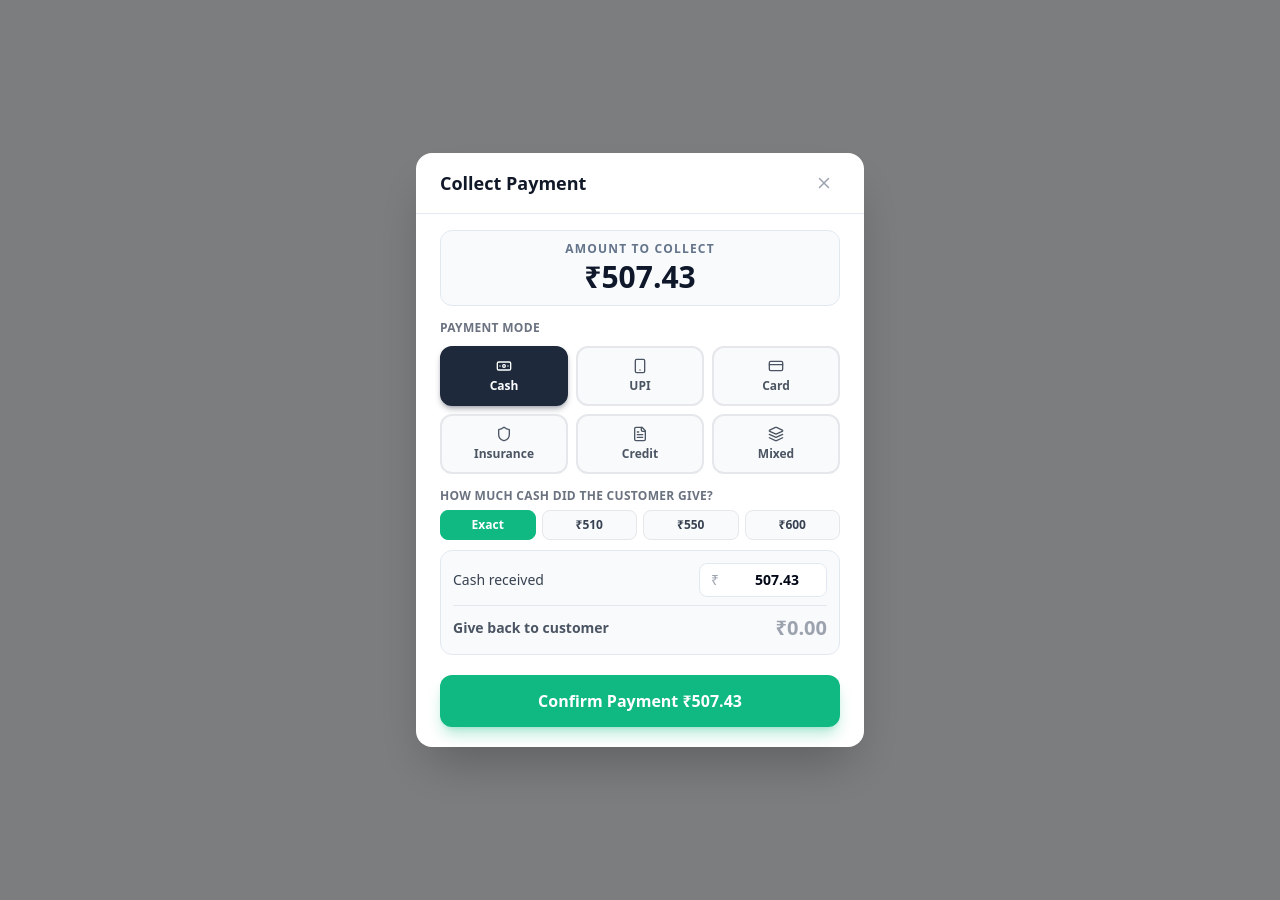
Test: PaymentModal cash panel › warns when the cash entered does not cover the bill
Replace the text in the number field with "400". click: (763, 580)
box: [699, 563, 827, 597]
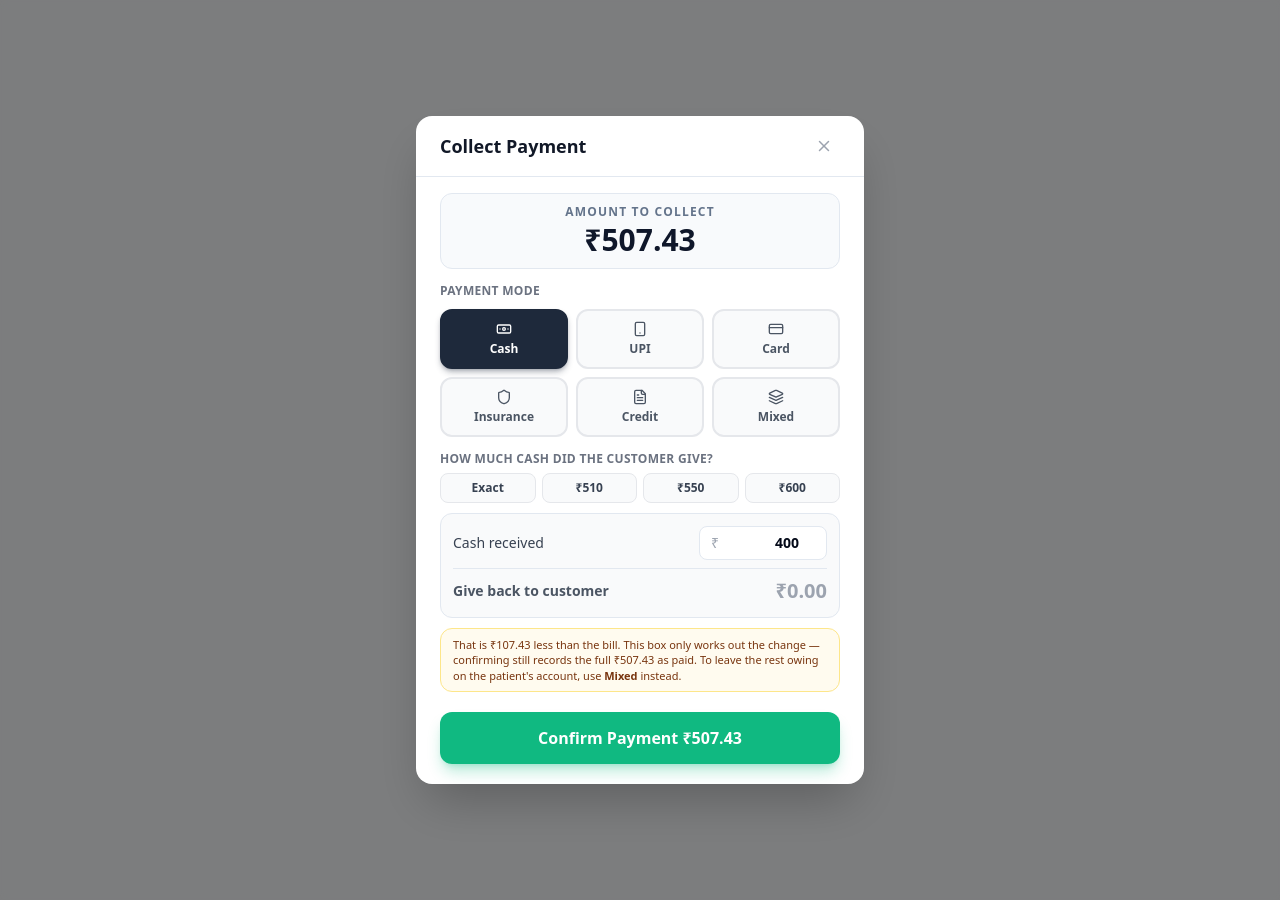
Result: the text "107.43 less than the bill" is shown at [440, 628, 840, 692]
Result: the text "To leave the rest owing" is shown at [453, 652, 819, 682]
